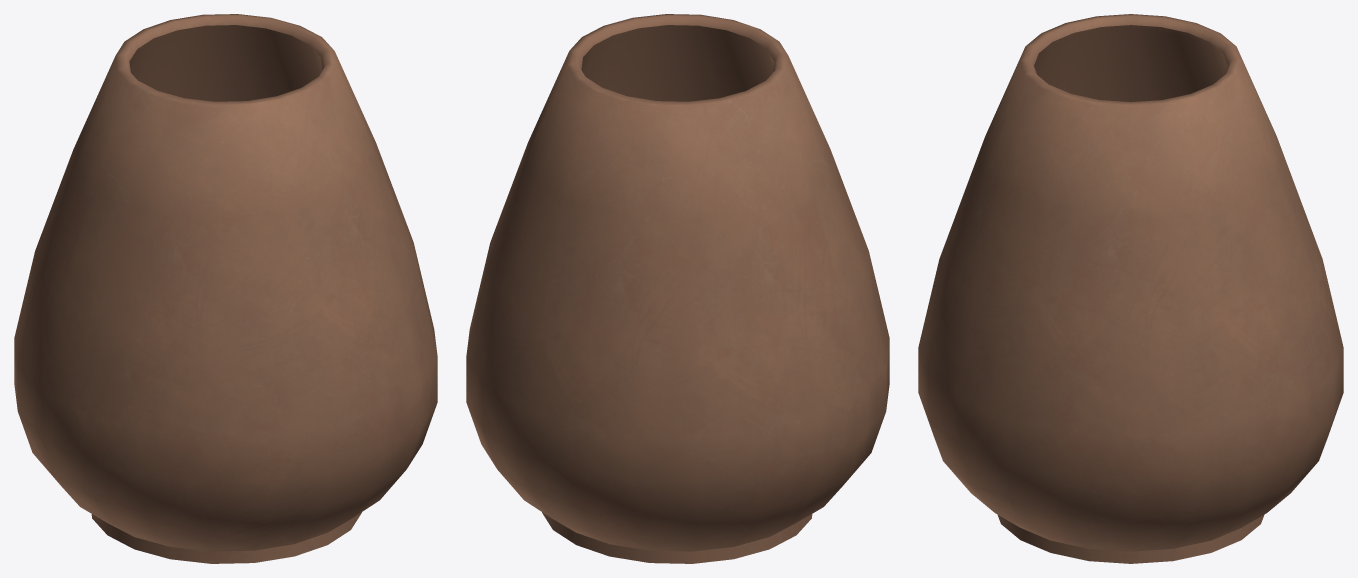
Rendered from vase_02.fbx.
3 views of the same model, side by side, from view 1: azimuth 30°, elevation 25°; view 2: azimuth 150°, elevation 25°; view 3: azimuth 270°, elevation 25° (orthographic).
Visible parts, largest first — view 1: vase_02; view 2: vase_02; view 3: vase_02.
Part boxes in pixels (x1,y1,x2,y2): vase_02: [14, 14, 437, 563]; vase_02: [466, 14, 889, 563]; vase_02: [918, 14, 1343, 563].
Size of the model in its own units: 31.6 by 36.64 by 31.6.
